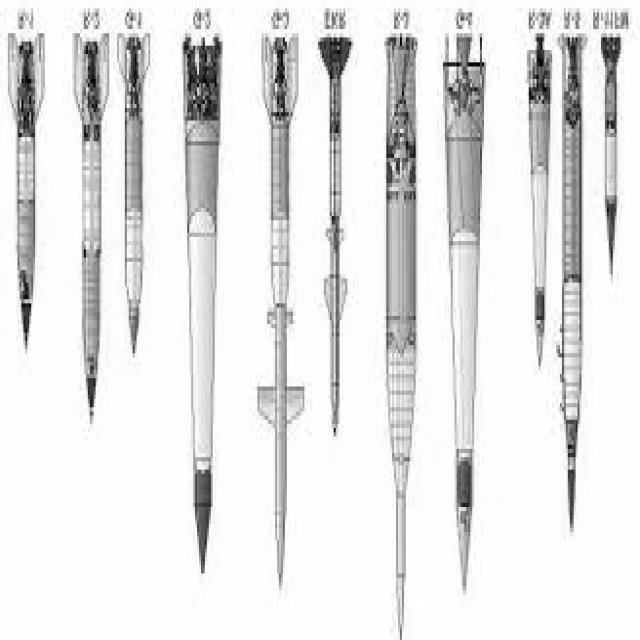Missile: (173, 31, 225, 595), (380, 26, 420, 631), (74, 15, 111, 427), (116, 27, 151, 352), (9, 17, 43, 351), (522, 36, 555, 380), (597, 27, 629, 286)
